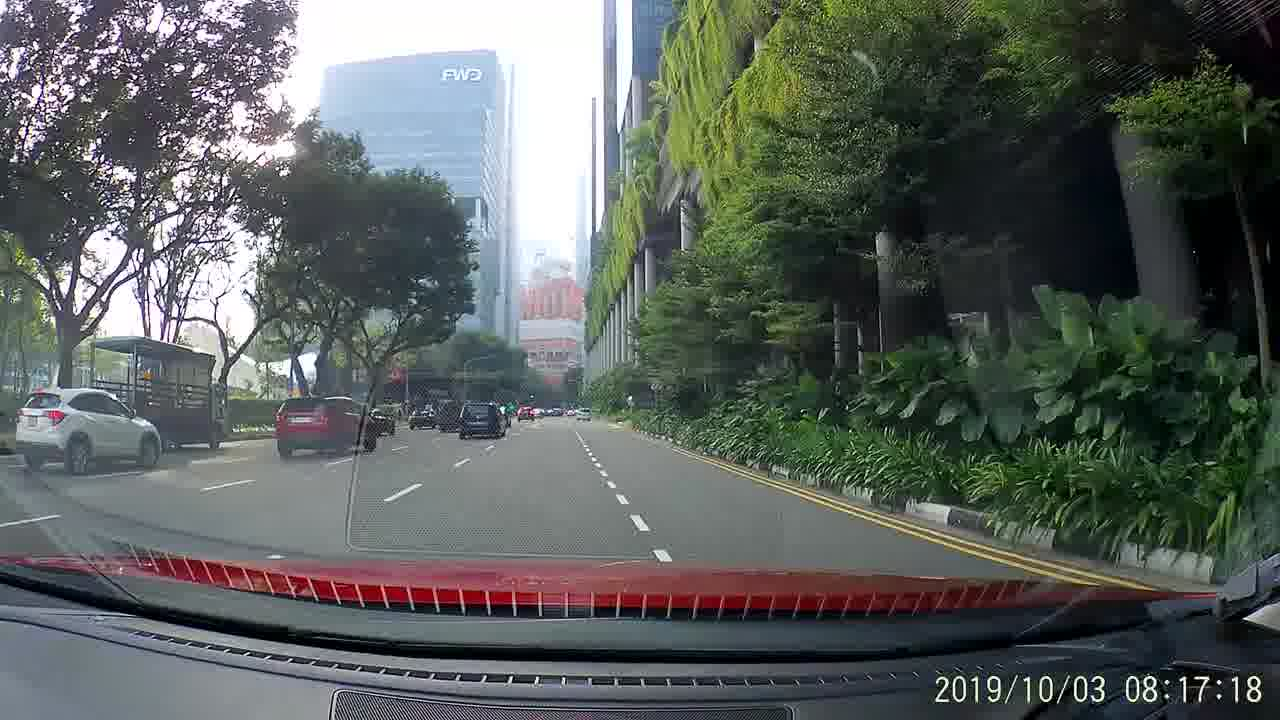car: (17, 386, 162, 472), (276, 395, 382, 458), (459, 398, 507, 438), (576, 407, 592, 421)
